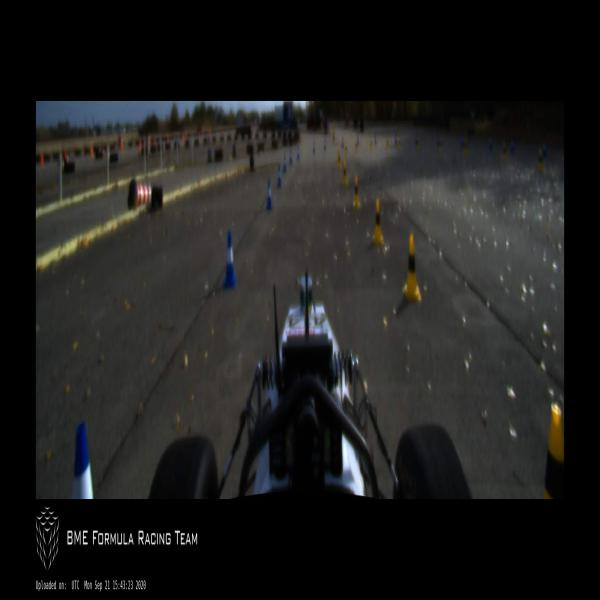blue_cone: (72, 420, 94, 499), (222, 230, 236, 289), (266, 180, 273, 209), (277, 164, 281, 188), (283, 154, 286, 173), (296, 146, 300, 160), (510, 138, 514, 152), (488, 137, 492, 151), (323, 138, 326, 153), (341, 136, 344, 150), (374, 134, 377, 146), (290, 148, 292, 164), (544, 142, 546, 158), (395, 134, 397, 147), (415, 134, 417, 147), (437, 135, 439, 148), (313, 141, 315, 153), (462, 136, 464, 148), (357, 136, 359, 146)
yellow_cone: (541, 403, 564, 498), (402, 233, 422, 306), (371, 198, 384, 247), (352, 175, 361, 209), (342, 161, 347, 185), (538, 149, 543, 171), (502, 142, 507, 161), (464, 136, 468, 156), (338, 150, 340, 169), (440, 135, 442, 153), (386, 138, 389, 150), (332, 128, 335, 140), (355, 140, 358, 151), (398, 138, 401, 149), (417, 136, 419, 150), (345, 142, 347, 156), (370, 138, 372, 150)
